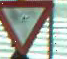Give way: (1, 1, 57, 51)
